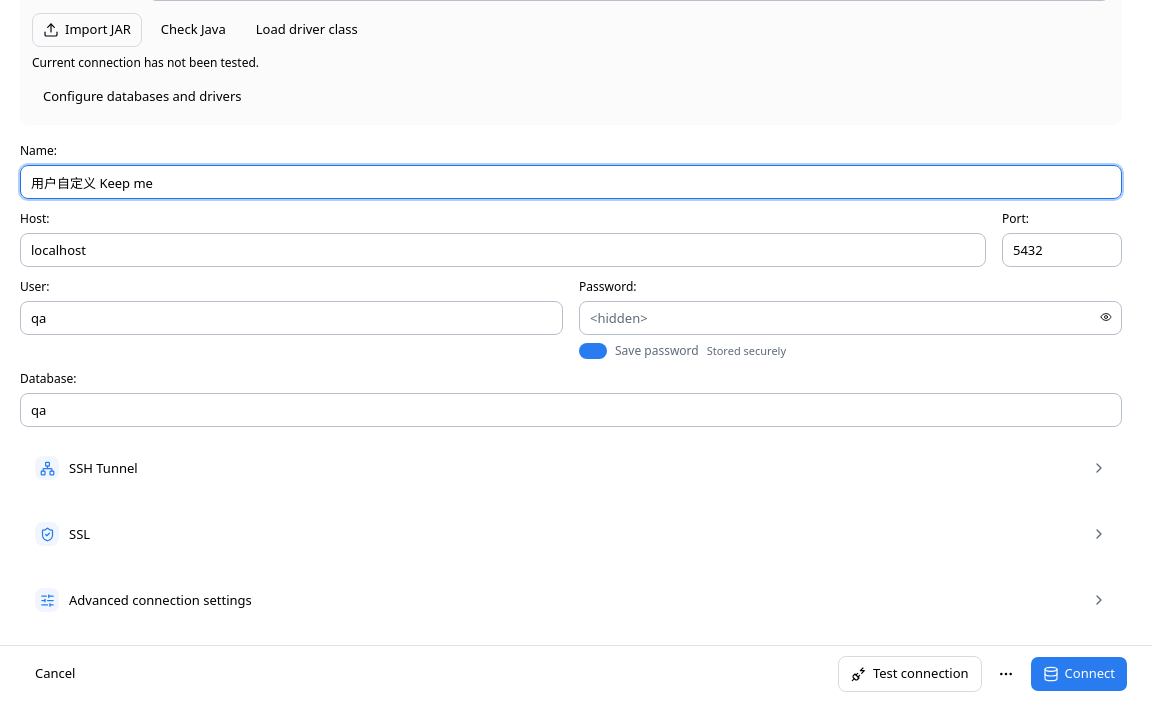
Test case: invalidates a completed result when host changes
(page scrolled)
Click the button "Test connection".
click(910, 674)  # box top-left (838, 656), bottom-right (982, 692)
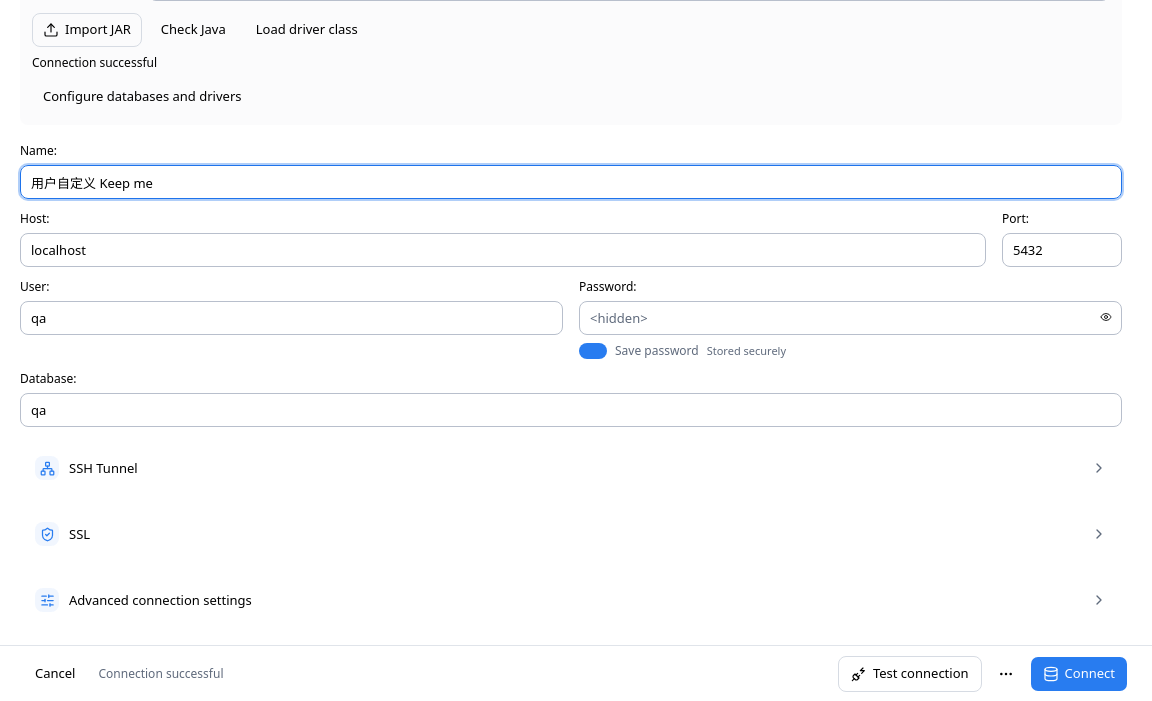
Replace the text in the field labelled "Host:" with "other.invalid" at (503, 250), box top-left (20, 233), bottom-right (986, 267)
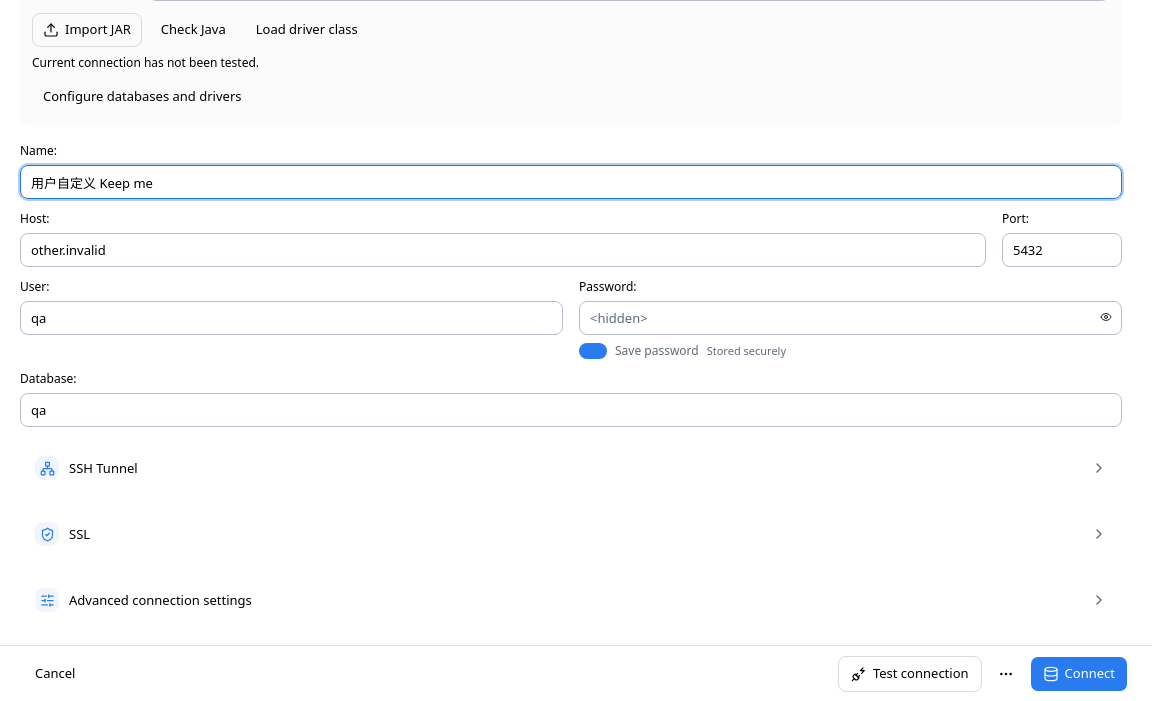
Now the text "Connection successful" is gone
Now the text "Current connection has not been tested." is shown, box top-left (32, 54), bottom-right (259, 71)
